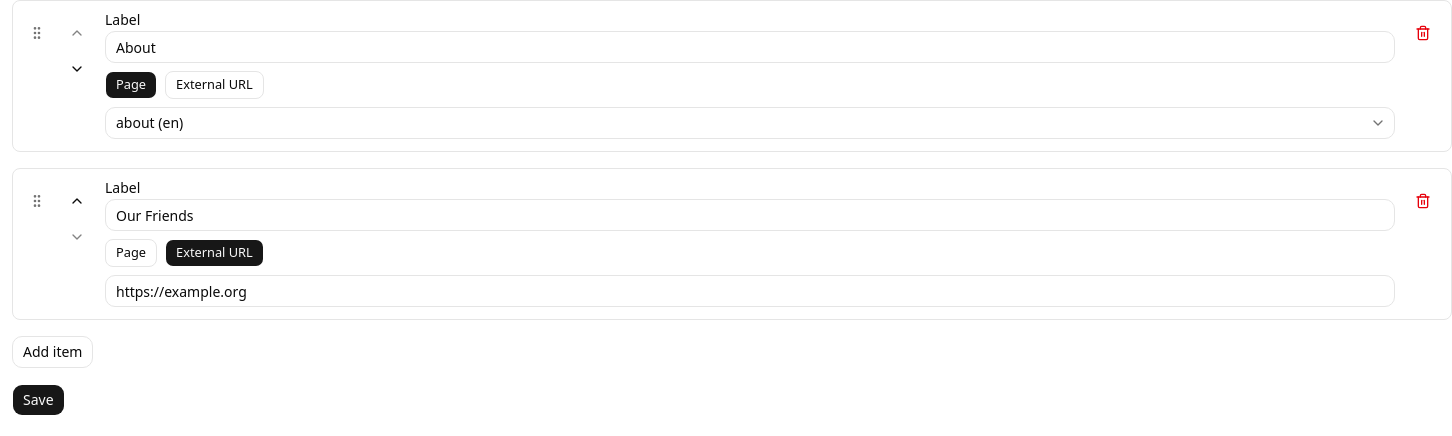
it: NavItemListEditor › Save submits the current rows as NavItemInput[] with sequential sortOrder
The image size is (1452, 436).
Click the button "Save" at (38, 400), box x1=12 y1=384 x2=65 y2=416
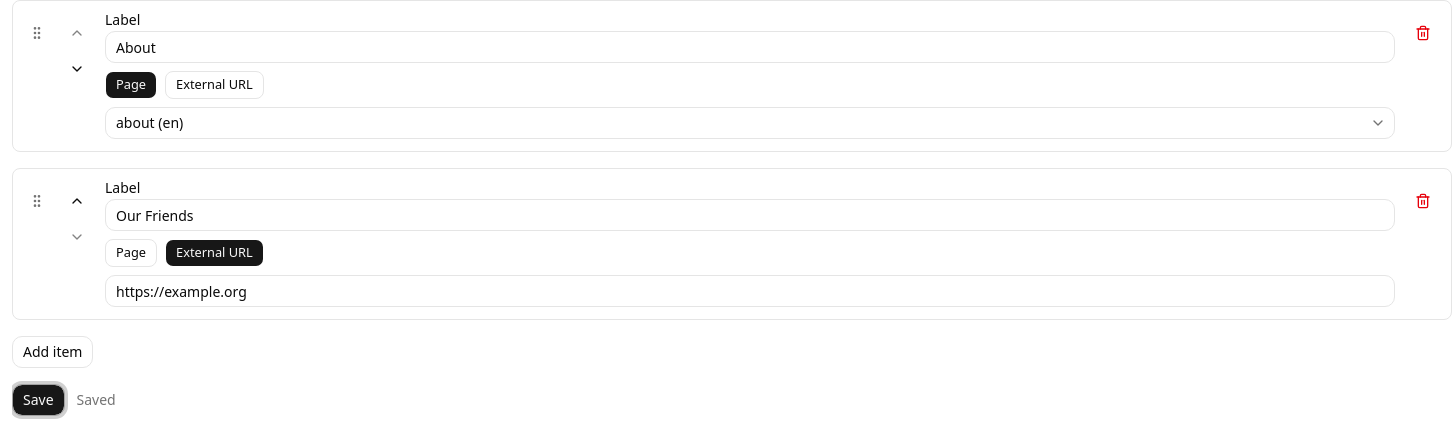
Expected: the text "Saved" is shown, x1=77 y1=390 x2=116 y2=410
